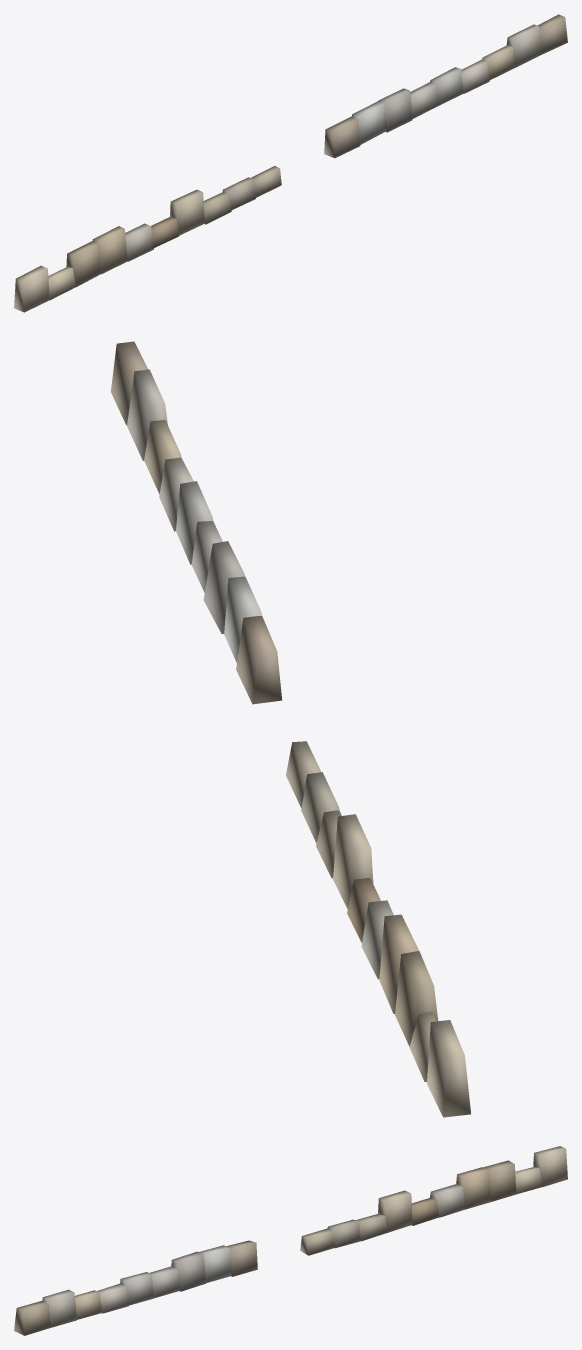
The model's file is farm_-3_-8_far.glb.
3 renders of one model, top to bottom at view 1: azimuth 90°, elevation 25°; view 2: azimuth 150°, elevation 25°; view 3: azimuth 270°, elevation 25°, orthographic. The views are drawn at different scales.
Parts seen in each view (by area): view 1: geometry_0; view 2: geometry_0; view 3: geometry_0.
Part boxes in pixels (bbox=[...]): geometry_0: bbox=[14, 14, 567, 312]; geometry_0: bbox=[111, 341, 470, 1117]; geometry_0: bbox=[14, 1146, 567, 1335].
Size of the model in its own units: 22.41 by 3.93 by 24.07.
